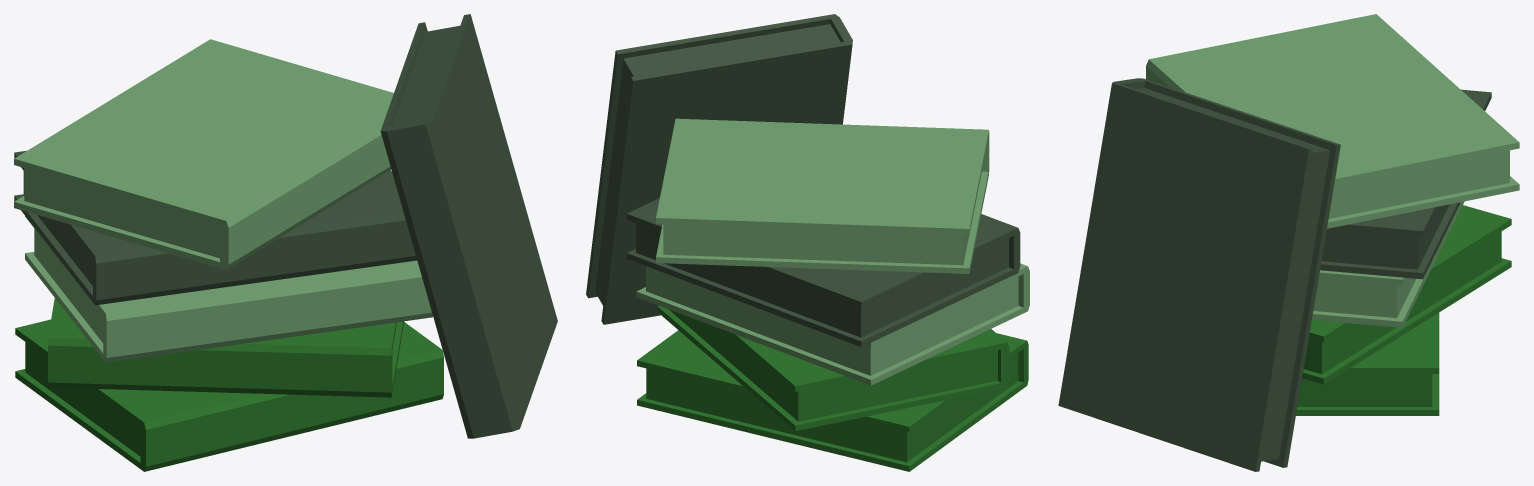
File: Bookstack1_Mesh.fbx
3 renders of one model, left to right at view 1: azimuth 30°, elevation 25°; view 2: azimuth 150°, elevation 25°; view 3: azimuth 270°, elevation 25°, orthographic. The views are drawn at different scales.
Visible parts, largest first — view 1: bookstack1; view 2: bookstack1; view 3: bookstack1.
Boxes of the visible parts, x1,y1,x2,y2 form: bookstack1: (14,14,557,471); bookstack1: (586,14,1029,471); bookstack1: (1058,14,1519,471).
Bounding box in the file's own units: 83.89 × 52.29 × 70.57.
